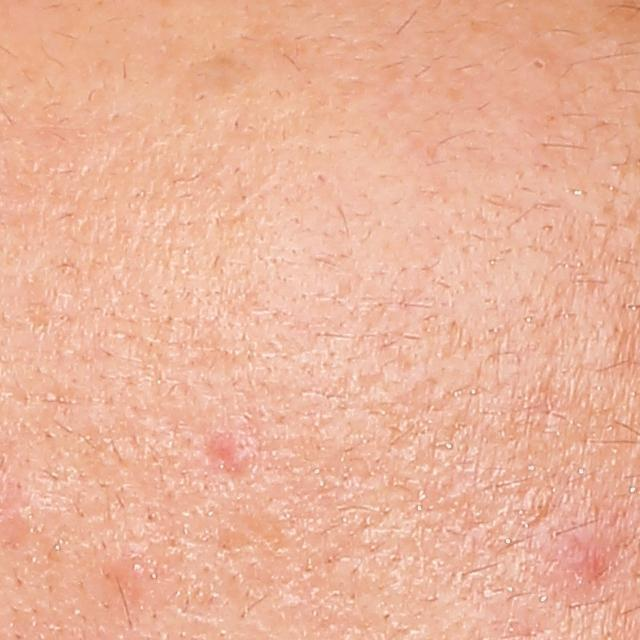comedo: (528, 55, 550, 75)
